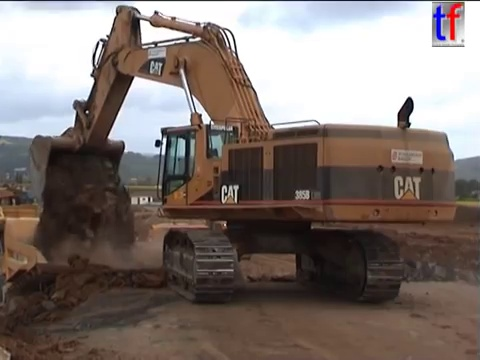excavator: (26, 2, 461, 307)
truck: (1, 201, 180, 347), (145, 220, 243, 294)
